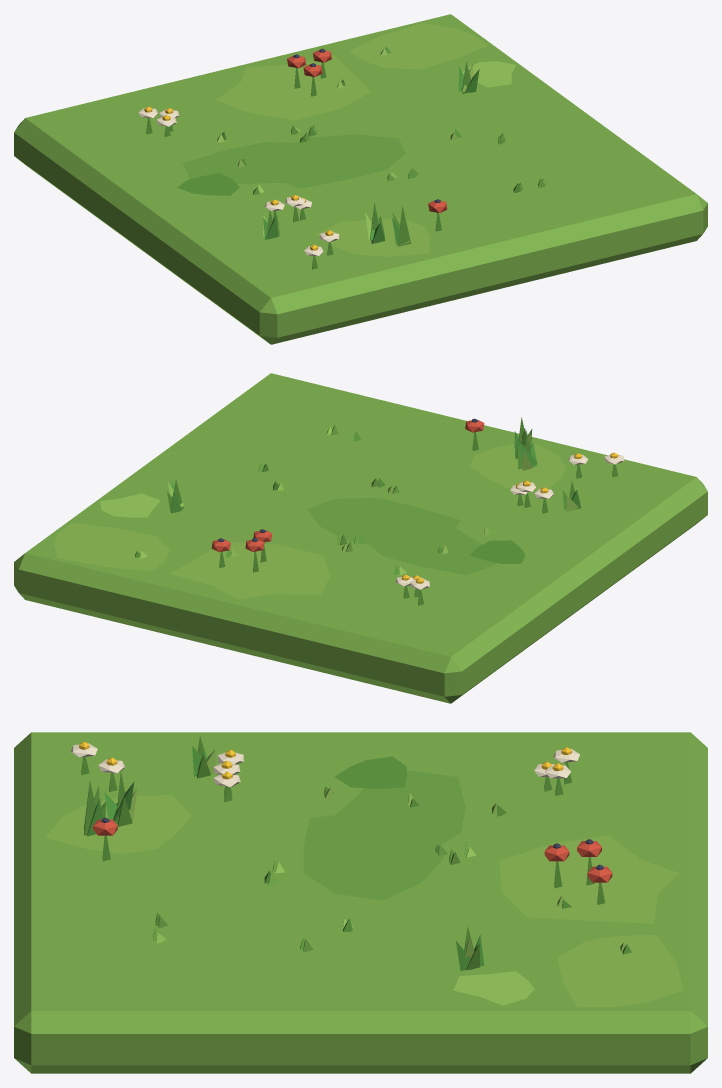
The model's file is tile_grass_b.fbx.
3 views of the same model, one above another, from view 1: azimuth 30°, elevation 25°; view 2: azimuth 150°, elevation 25°; view 3: azimuth 270°, elevation 25° (orthographic). The views are drawn at different scales.
Visible parts, largest first — view 1: tile_grass_b, Details; view 2: tile_grass_b, Details; view 3: tile_grass_b, Details.
Boxes of the visible parts, bbox=[...] form: tile_grass_b: bbox=[14, 14, 707, 344]; Details: bbox=[138, 46, 546, 269]; tile_grass_b: bbox=[14, 373, 707, 703]; Details: bbox=[135, 417, 623, 605]; tile_grass_b: bbox=[14, 732, 707, 1073]; Details: bbox=[70, 736, 631, 970].
Bounding box in the file's own units: 1 × 0.1835 × 1.
